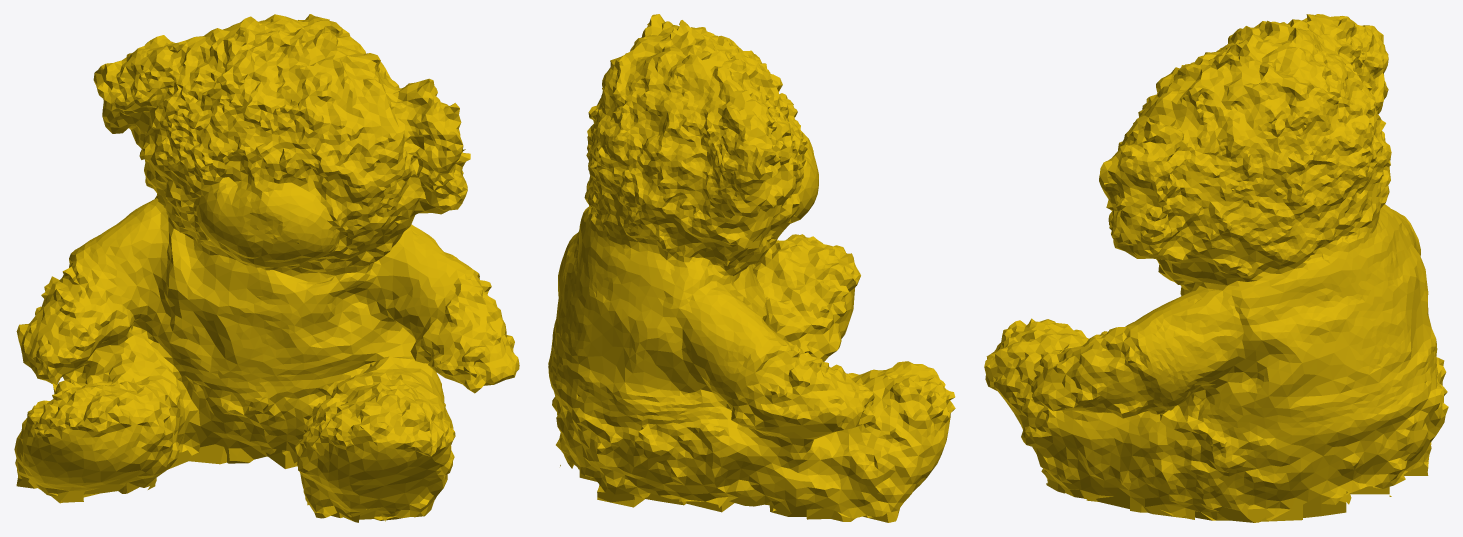
File: bearAR.glb
3 renders of one model, left to right at view 1: azimuth 30°, elevation 25°; view 2: azimuth 150°, elevation 25°; view 3: azimuth 270°, elevation 25°, orthographic. The views are drawn at different scales.
Parts seen in each view (by area): view 1: Mesh_Mesh_head_geo.001_lambert2SG.001; view 2: Mesh_Mesh_head_geo.001_lambert2SG.001; view 3: Mesh_Mesh_head_geo.001_lambert2SG.001.
Boxes of the visible parts, x1=… form: Mesh_Mesh_head_geo.001_lambert2SG.001: x1=14, y1=14, x2=519, y2=522; Mesh_Mesh_head_geo.001_lambert2SG.001: x1=548, y1=14, x2=955, y2=522; Mesh_Mesh_head_geo.001_lambert2SG.001: x1=984, y1=14, x2=1448, y2=522.
Size of the model in its own units: 0.178 by 0.1794 by 0.1757.
